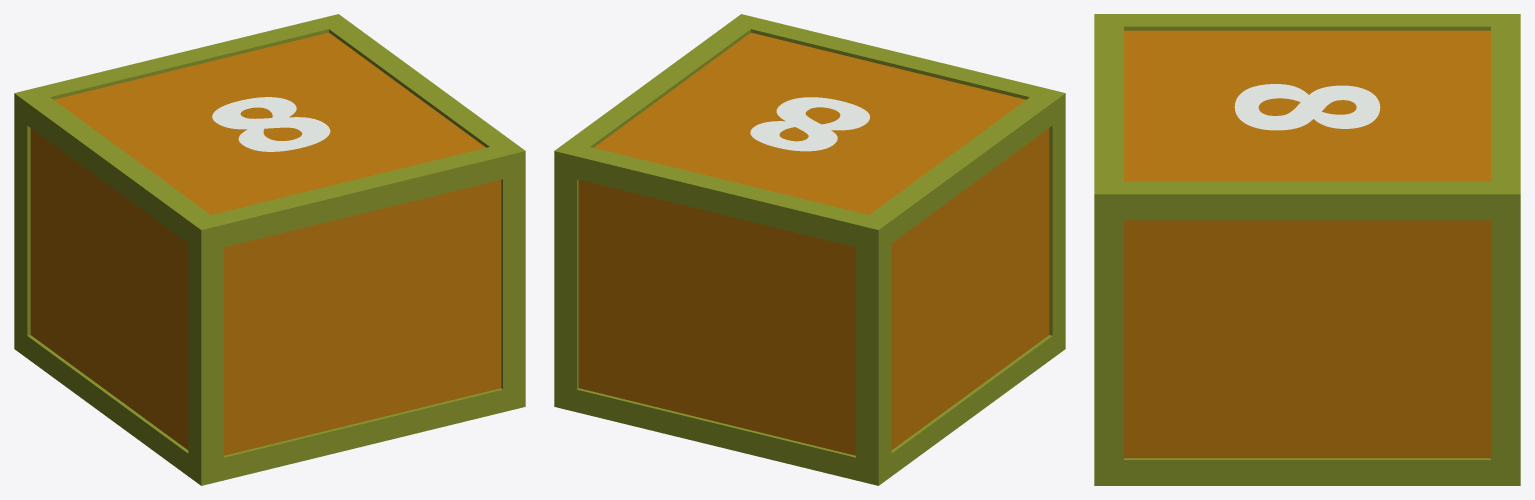
The model's file is 8Prefab.fbx.
3 renders of one model, left to right at view 1: azimuth 30°, elevation 25°; view 2: azimuth 150°, elevation 25°; view 3: azimuth 270°, elevation 25°, orthographic. The views are drawn at different scales.
Parts seen in each view (by area): view 1: Text.002; view 2: Text.002; view 3: Text.002.
Boxes of the visible parts, left/top/right/bottom form: Text.002: left=14, top=14, right=525, bottom=485; Text.002: left=554, top=14, right=1065, bottom=485; Text.002: left=1094, top=14, right=1520, bottom=485.
Bounding box in the file's own units: 194 × 146 × 194.
